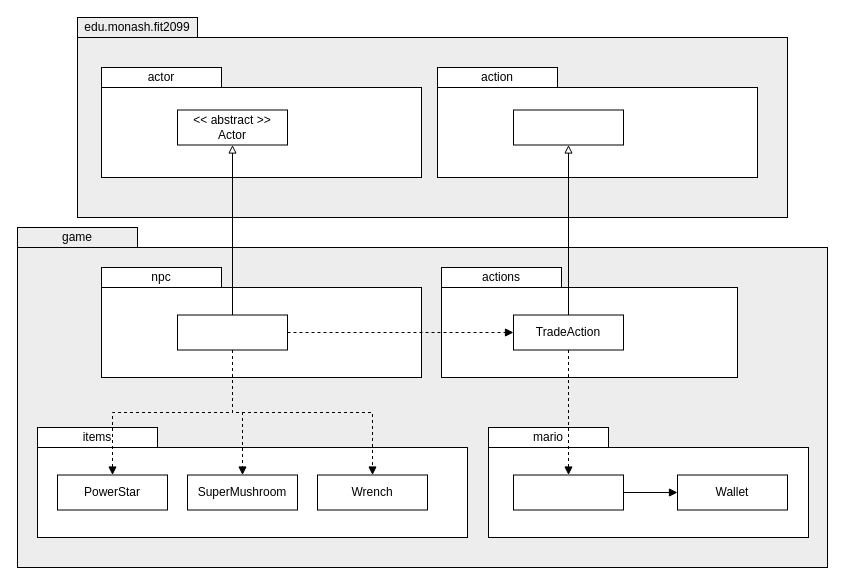
The diagram is 845 pixels wide and 585 high, and some of its shapes have lost their labels. The shapes that lost their labels are listed below. From the top down, each one's box as (x1, y1, x2, y2) in pixels, then its label:
(512, 109, 624, 145): << abstract >> Action
(176, 314, 288, 350): Toad
(512, 474, 624, 510): Player
